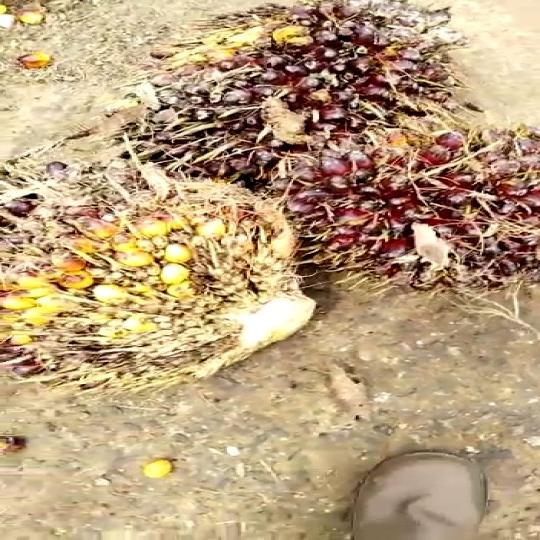kurang masak: (0, 136, 332, 394), (112, 0, 494, 177), (274, 108, 540, 295)
